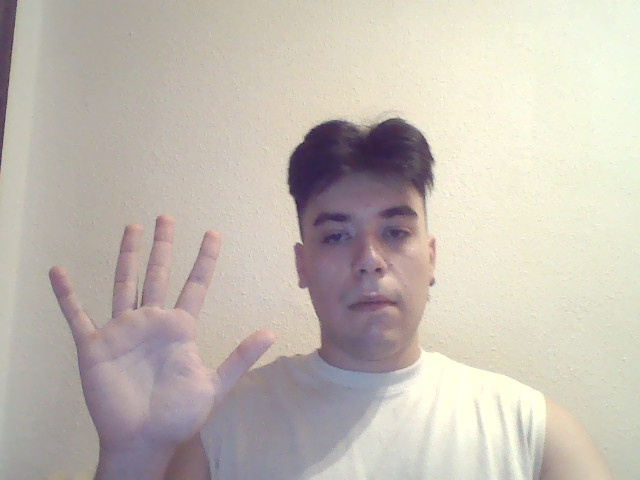Hola: (46, 215, 272, 455)
